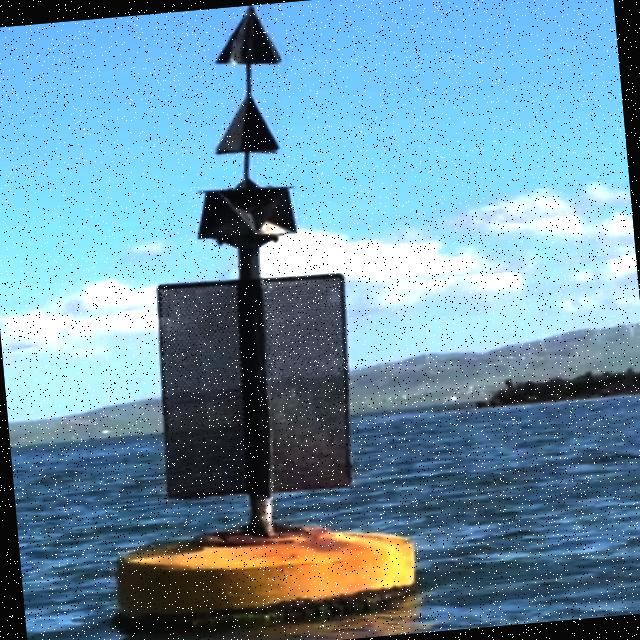marque: (54, 1, 420, 638)
